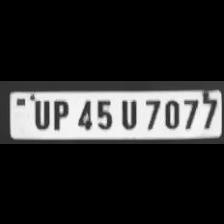0: (160, 97, 182, 129)
4: (72, 96, 94, 130)
5: (93, 96, 115, 130)
7: (197, 96, 219, 128), (140, 96, 160, 130), (180, 96, 198, 128)
P: (48, 96, 70, 130)
U: (116, 96, 140, 128), (29, 97, 51, 129)
